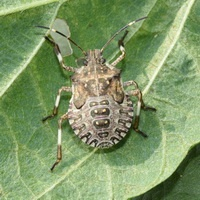insect: (35, 16, 155, 170)
